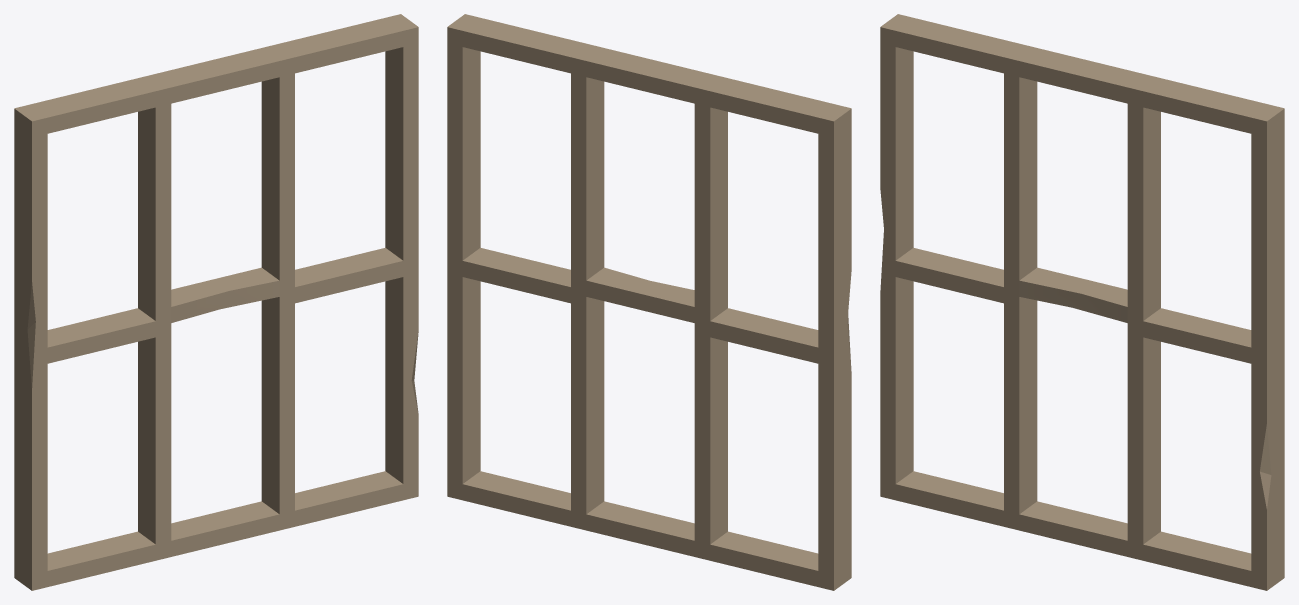
Rendered from SM_Bld_House_Wall_01.glb.
The picture shows the model from 3 angles, left to right: view 1: azimuth 30°, elevation 25°; view 2: azimuth 150°, elevation 25°; view 3: azimuth 330°, elevation 25°; orthographic projection.
Parts seen in each view (by area): view 1: SM_Bld_House_Wall_01; view 2: SM_Bld_House_Wall_01; view 3: SM_Bld_House_Wall_01.
Part boxes in pixels (x1,y1,x2,y2): SM_Bld_House_Wall_01: (14, 14, 418, 590); SM_Bld_House_Wall_01: (447, 14, 851, 590); SM_Bld_House_Wall_01: (880, 14, 1284, 590).
Size of the model in its own units: 2.5 by 2.9 by 0.2.
1 material, 1 textured.
